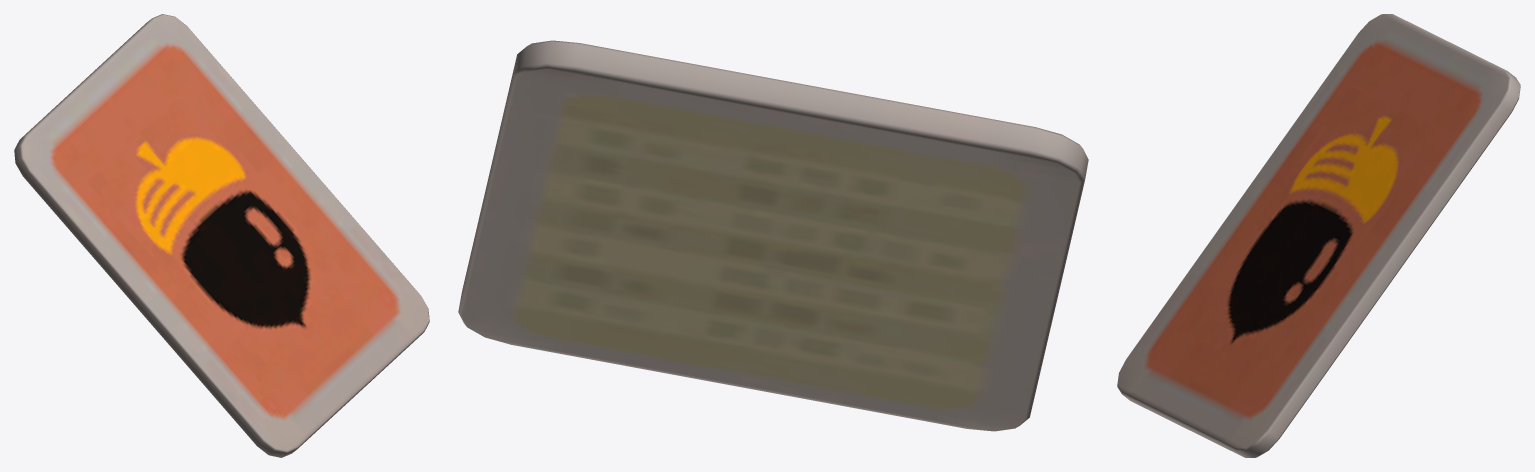
File: UnitIconRecipe.glb
The picture shows the model from 3 angles, left to right: view 1: azimuth 30°, elevation 25°; view 2: azimuth 150°, elevation 25°; view 3: azimuth 270°, elevation 25°; orthographic projection. The views are drawn at different scales.
Visible parts, largest first — view 1: card__mBody; view 2: card__mBody; view 3: card__mBody.
Boxes of the visible parts, x1,y1,x2,y2 form: card__mBody: [14, 14, 429, 457]; card__mBody: [458, 40, 1088, 431]; card__mBody: [1117, 14, 1520, 457].
Bounding box in the file's own units: 3.29 × 2.67 × 2.83.
1 material, 1 textured.
